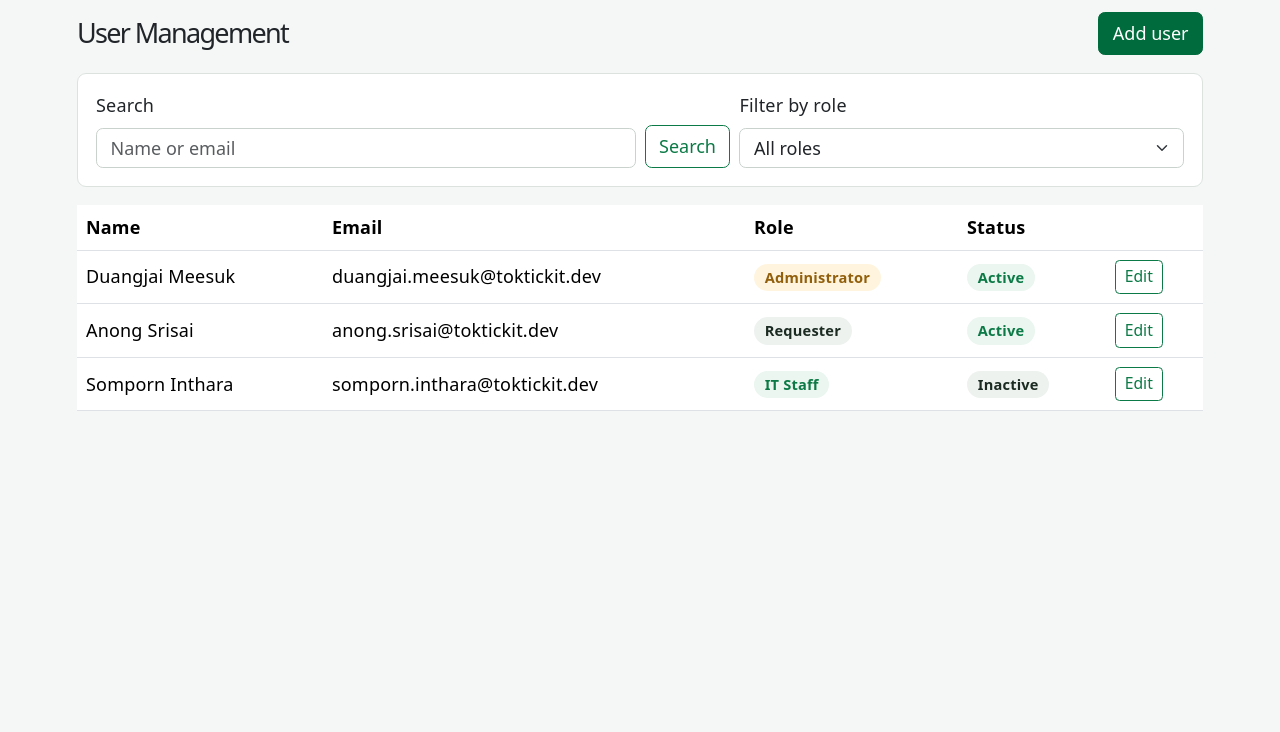
Scenario: UserManagement › UI-06: shows the last-active-Administrator error inline when the server refuses the change
The width and height of the screenshot is (1280, 732).
Click the button with aria-label "Edit Duangjai Meesuk". click: (1139, 277)
box: [1115,260,1163,294]
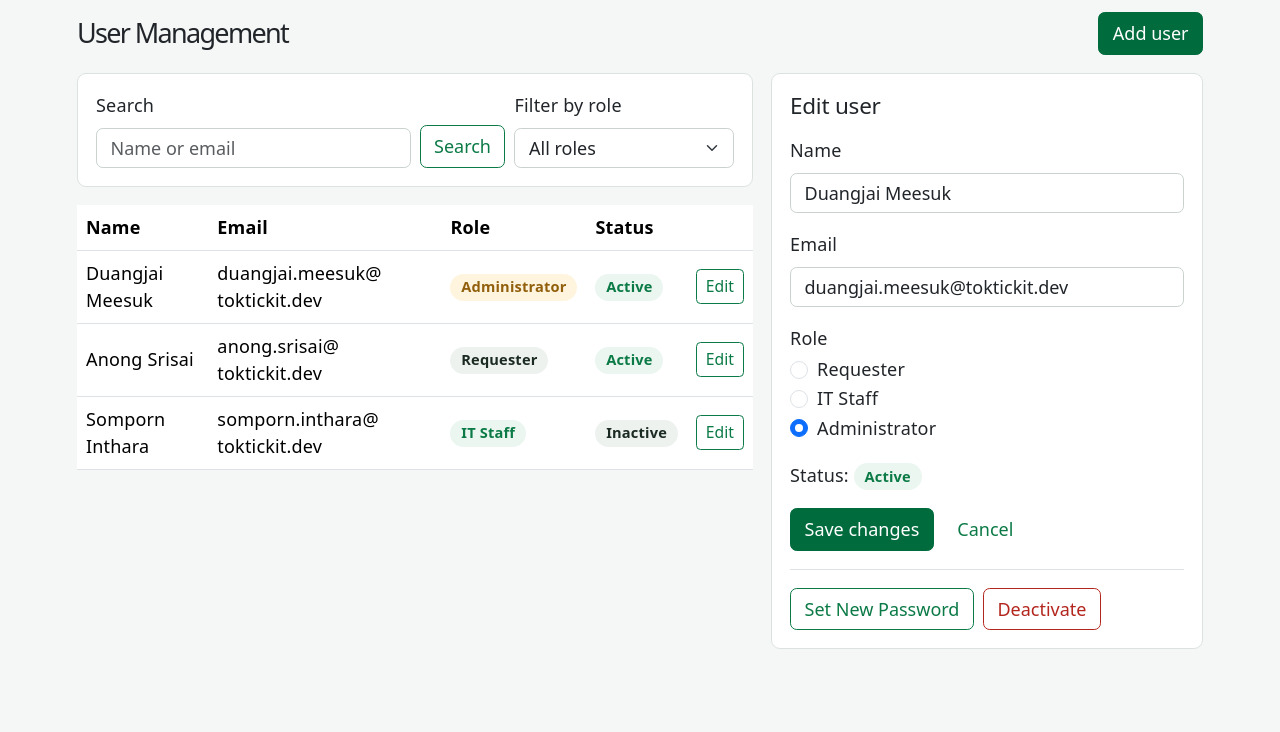
Click the radio button labelled "IT Staff". click: (799, 399)
box: [790,390,808,408]
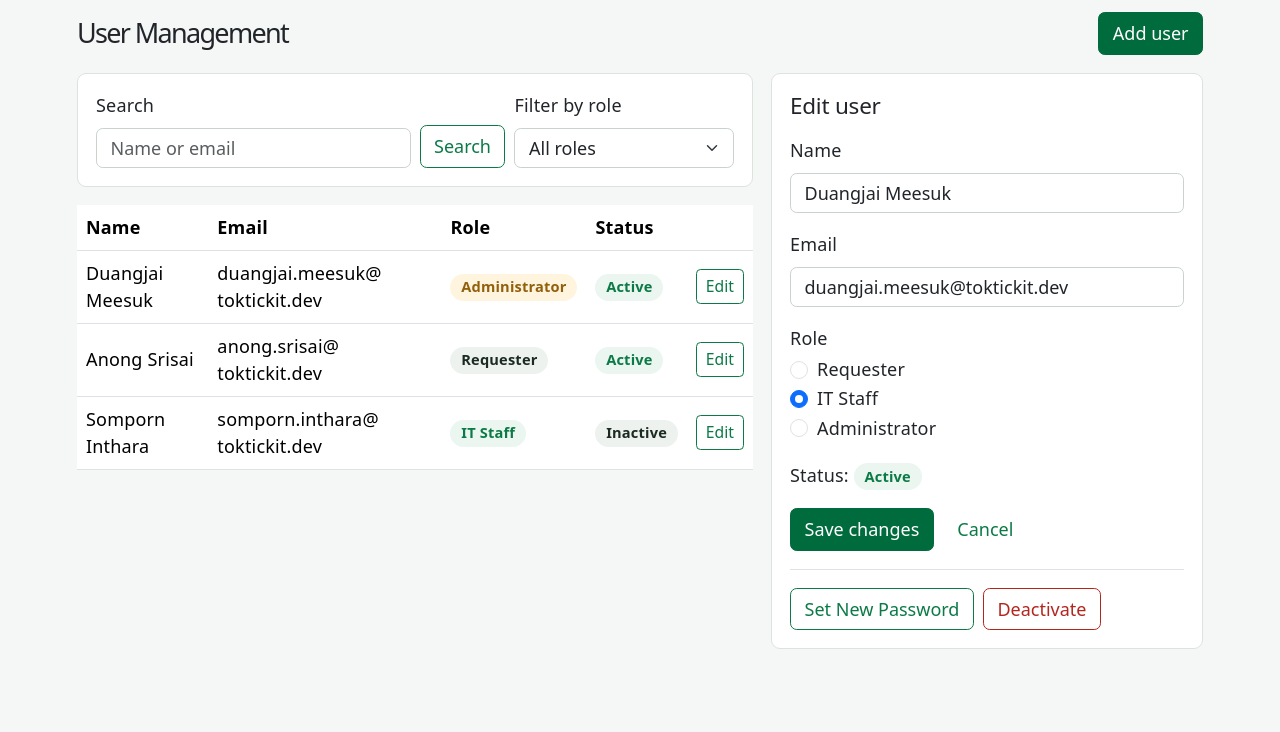
Click the button "Save changes". click: (862, 530)
box: [790,508,934,551]
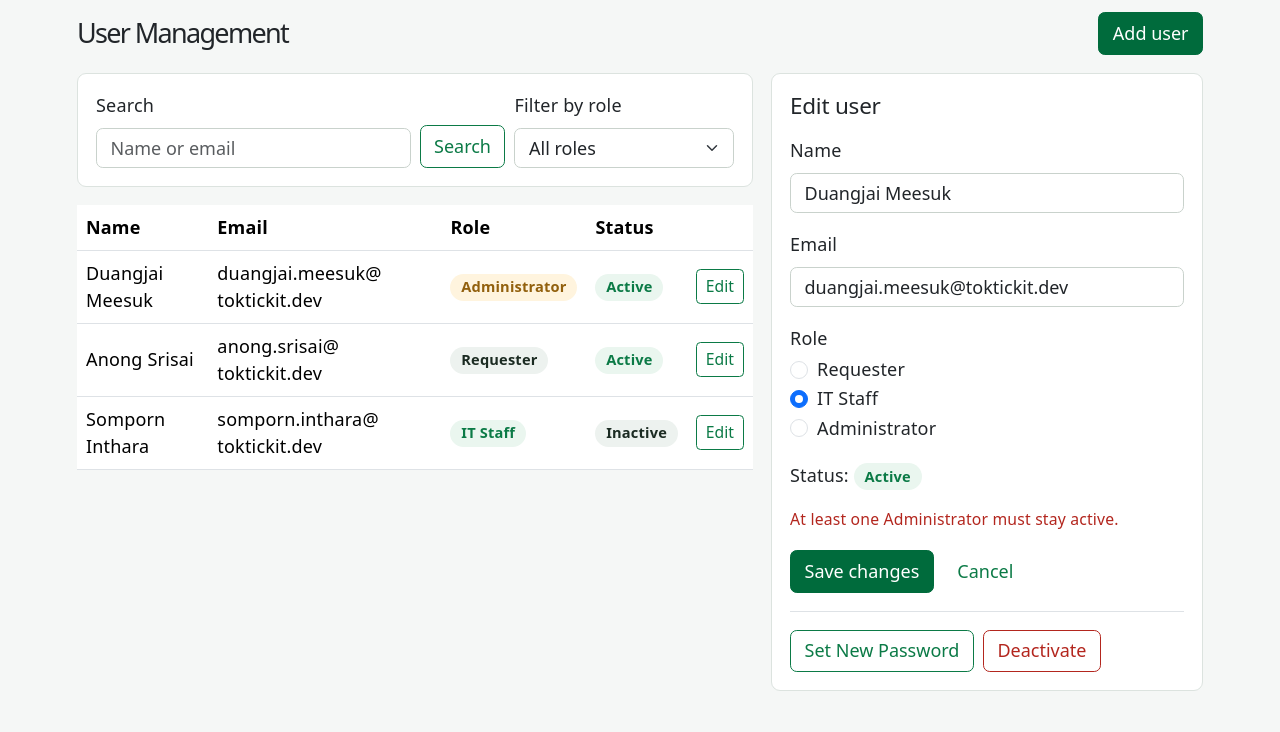
expect the text "At least one Administrator must stay active." is shown: met, box [790,508,1119,530]
